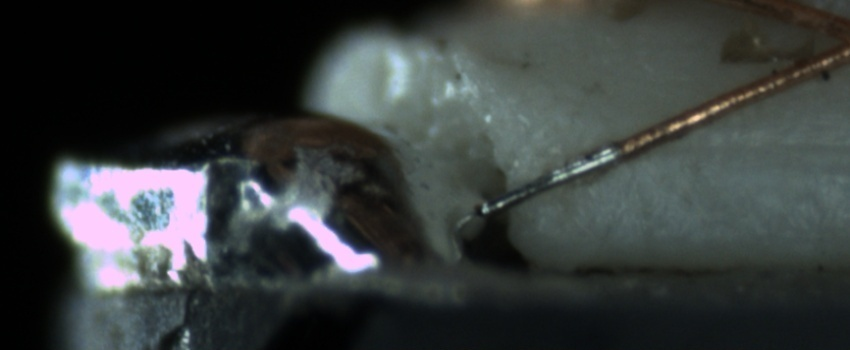CL: (800, 1, 850, 70)
DL: (643, 111, 850, 185)
TS: (475, 143, 623, 219)
